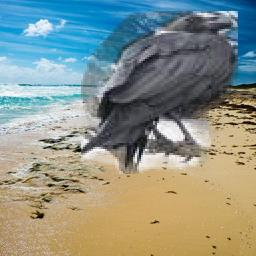Crow: (82, 12, 239, 175)
